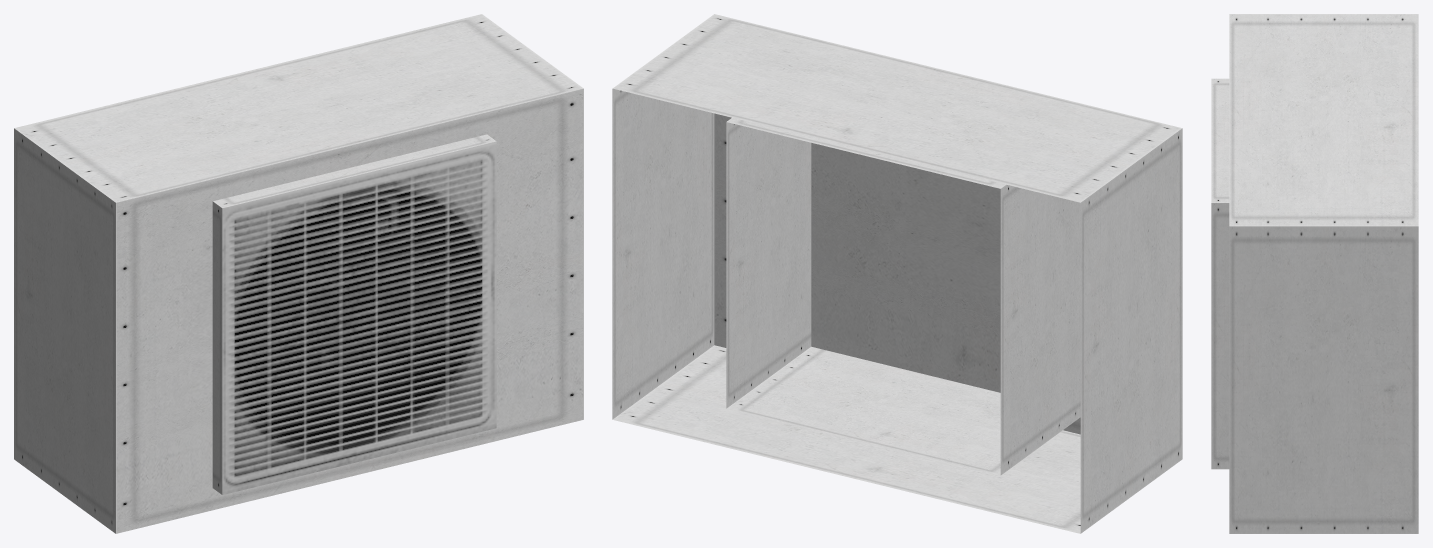
Rendered from d_vent_b.FBX.
3 renders of one model, left to right at view 1: azimuth 30°, elevation 25°; view 2: azimuth 150°, elevation 25°; view 3: azimuth 270°, elevation 25°, orthographic. The views are drawn at different scales.
Visible parts, largest first — view 1: DF_vent02; view 2: DF_vent02; view 3: DF_vent02.
Boxes of the visible parts, x1=… form: DF_vent02: x1=14, y1=14, x2=583, y2=533; DF_vent02: x1=612, y1=14, x2=1182, y2=533; DF_vent02: x1=1211, y1=14, x2=1418, y2=533.
Bounding box in the file's own units: 4.12 × 1.7 × 2.78.
